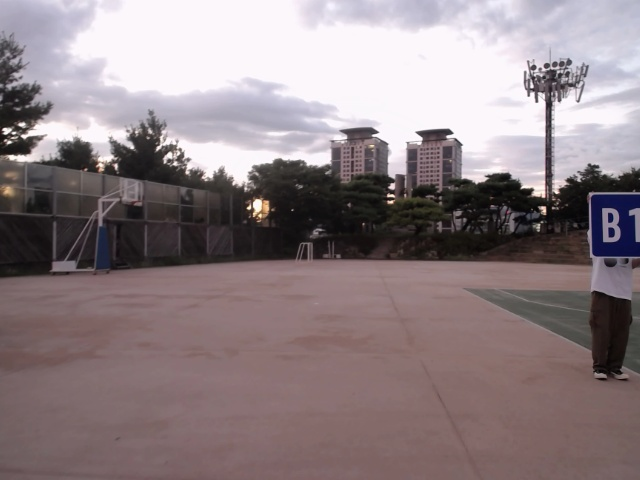delivery_b1: (591, 193, 639, 257)
